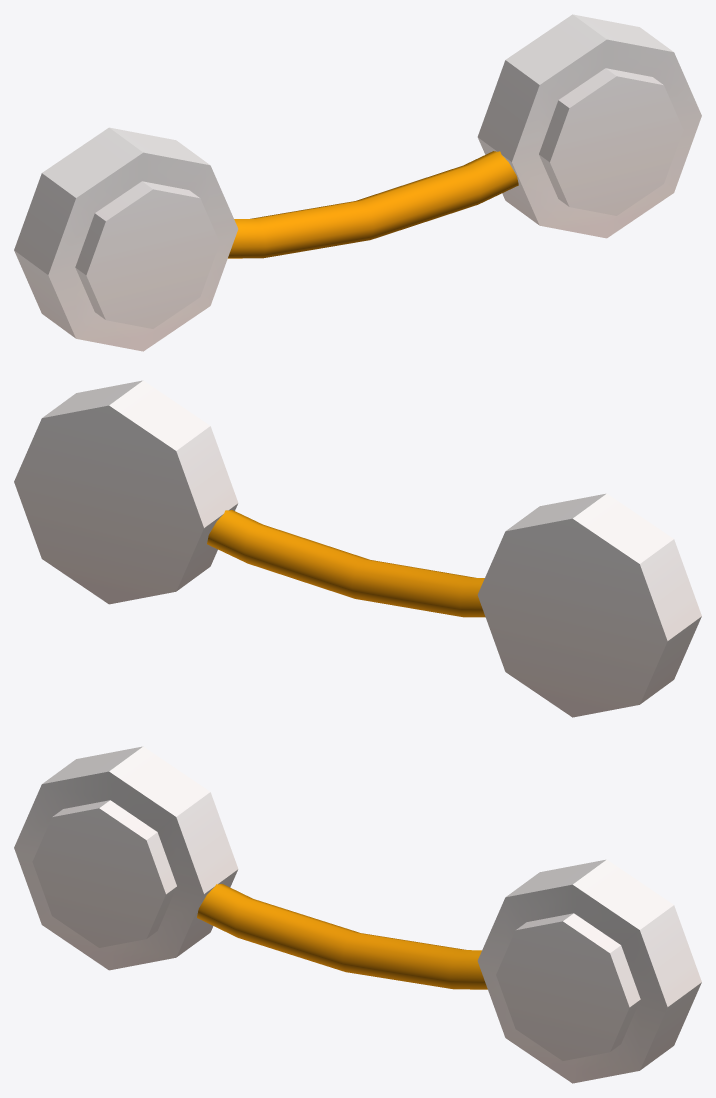
3 views of the same model, one above another, from view 1: azimuth 30°, elevation 25°; view 2: azimuth 150°, elevation 25°; view 3: azimuth 330°, elevation 25° (orthographic).
Visible parts, largest first — view 1: lv1; view 2: lv1; view 3: lv1.
Boxes of the visible parts, x1,y1,x2,y2 form: lv1: (14,14,701,351); lv1: (14,380,701,717); lv1: (14,746,701,1083).
Bounding box in the file's own units: 14.68 × 4.27 × 1.71.
Materials: 1 (1 with a texture image).
